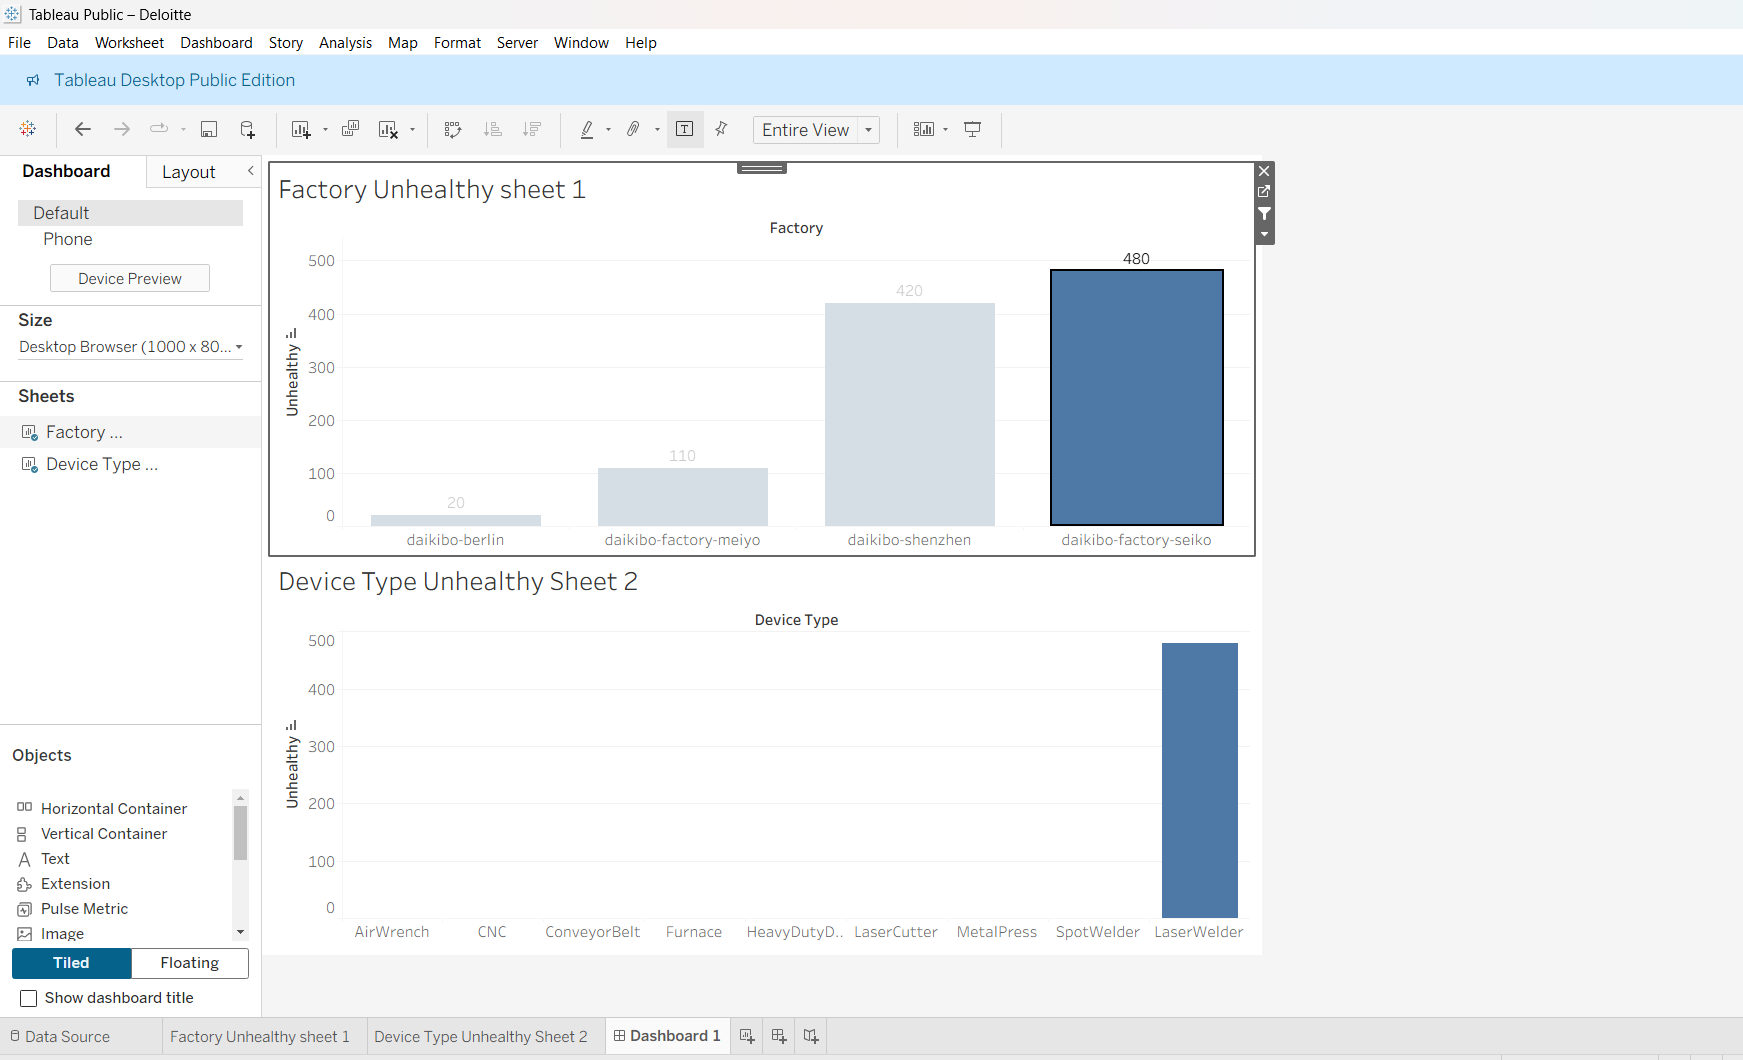

The page's visual inventory and layout, read from the dashboard file:
{"tool":"tableau","page":{"name":"Dashboard 1","canvas":[1000,800],"ordinal":0},"visuals":[{"type":"worksheet","title":"Factory Unhealthy sheet 1","mark":"Automatic","rows":["Calculation_333266374311686145"],"cols":["factory"],"box":[8,8,984,392]},{"type":"worksheet","title":"Device Type Unhealthy Sheet 2","mark":"Automatic","rows":["Calculation_333266374311686145"],"cols":["deviceType"],"box":[8,400,984,392]}]}

Visuals, with their boxes on the page's 1000x800 design canvas (x1, y1, x2, y2). These are canvas units, not pixel positions in the 1743x1060 screenshot, which may show the page scaled, cropped or inside an application window:
"Factory Unhealthy sheet 1" worksheet: l=8, t=8, r=992, b=400
"Device Type Unhealthy Sheet 2" worksheet: l=8, t=400, r=992, b=792
